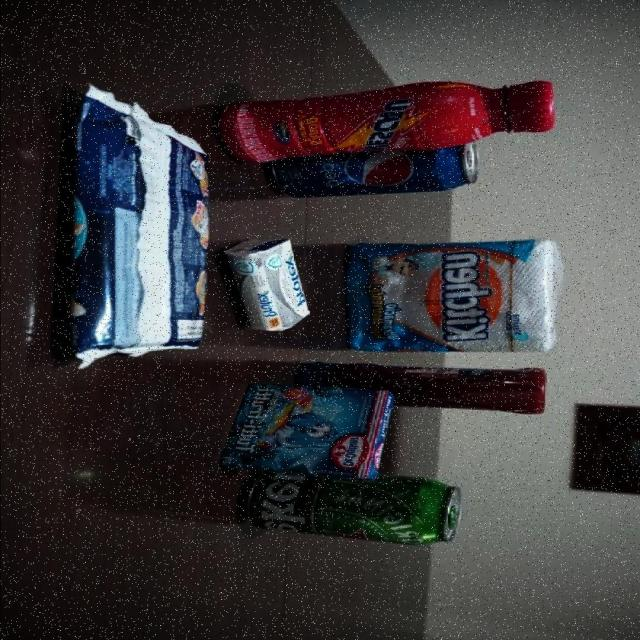BeerCan: (241, 473, 462, 546)
ChocolateMilk: (219, 78, 558, 166)
Gelatine: (216, 382, 396, 478)
Ketchup: (290, 361, 549, 415)
Napkin: (342, 238, 566, 357)
Popcorn: (64, 84, 215, 359)
Soap: (222, 238, 310, 334)
SodaCan: (272, 150, 480, 201)
